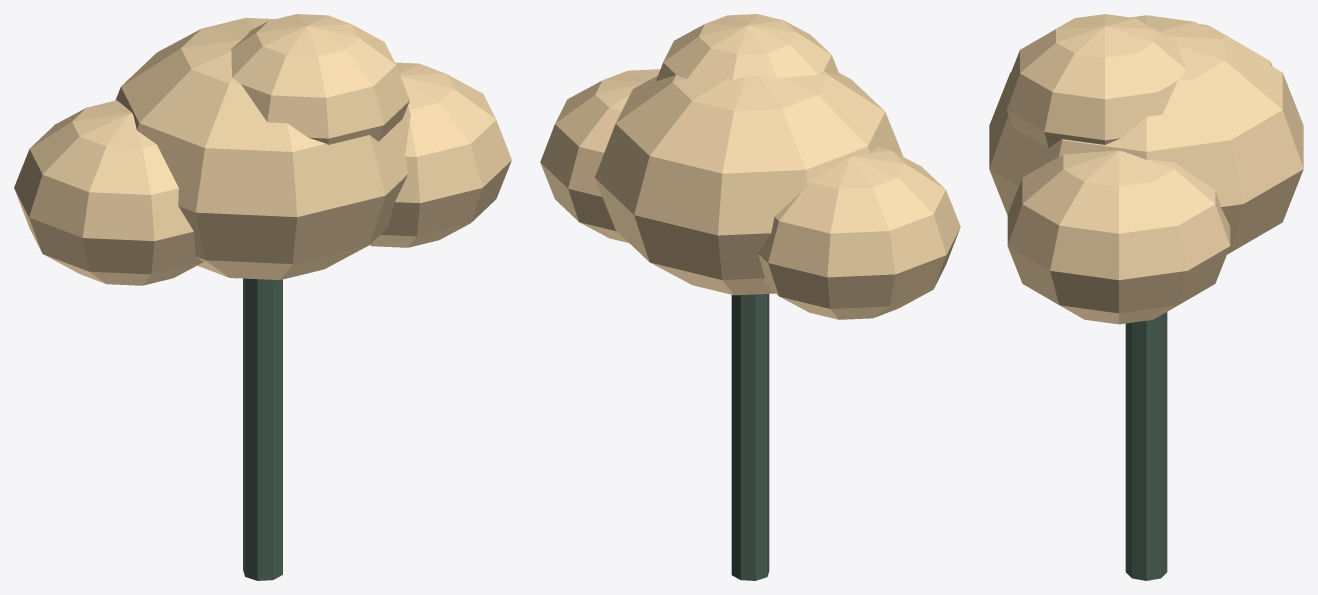
File: ParkParkDecorCloud.obj
The picture shows the model from 3 angles, left to right: view 1: azimuth 30°, elevation 25°; view 2: azimuth 150°, elevation 25°; view 3: azimuth 270°, elevation 25°; orthographic projection. The views are drawn at different scales.
Parts seen in each view (by area): view 1: ParkParkDecorCloud; view 2: ParkParkDecorCloud; view 3: ParkParkDecorCloud.
Boxes of the visible parts, x1,y1,x2,y2 form: ParkParkDecorCloud: (14, 14, 511, 580); ParkParkDecorCloud: (540, 14, 960, 580); ParkParkDecorCloud: (989, 14, 1303, 580).
Bounding box in the file's own units: 3.7 × 4.46 × 2.28.
